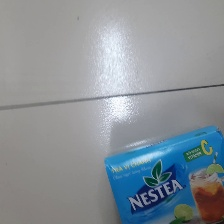Nestea: (102, 125, 224, 224)
